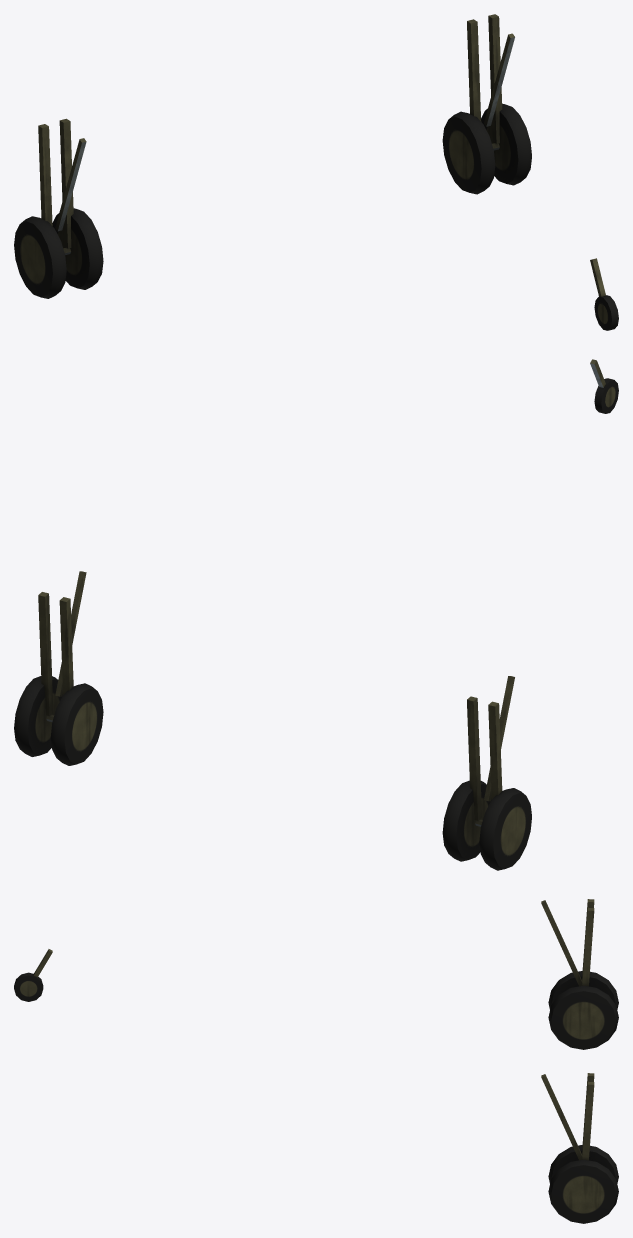
File: PZL37B_train.fbx
The picture shows the model from 3 angles, top to bottom: view 1: azimuth 30°, elevation 25°; view 2: azimuth 150°, elevation 25°; view 3: azimuth 270°, elevation 25°; orthographic projection. The views are drawn at different scales.
Parts seen in each view (by area): view 1: Roue_Avant, Train, Roue_Arriere; view 2: Roue_Avant, Train; view 3: Roue_Avant, Train, Roue_Arriere.
Boxes of the visible parts, x1,y1,x2,y2 form: Roue_Avant: (14, 103, 531, 298); Train: (38, 14, 605, 296); Roue_Arriere: (594, 295, 618, 330); Roue_Avant: (14, 676, 531, 870); Train: (38, 359, 605, 826); Roue_Avant: (548, 971, 618, 1223); Train: (33, 899, 594, 1160); Roue_Arriere: (14, 972, 43, 1001).
Bounding box in the file's own units: 628 × 823 × 269.
1 material, 1 textured.
